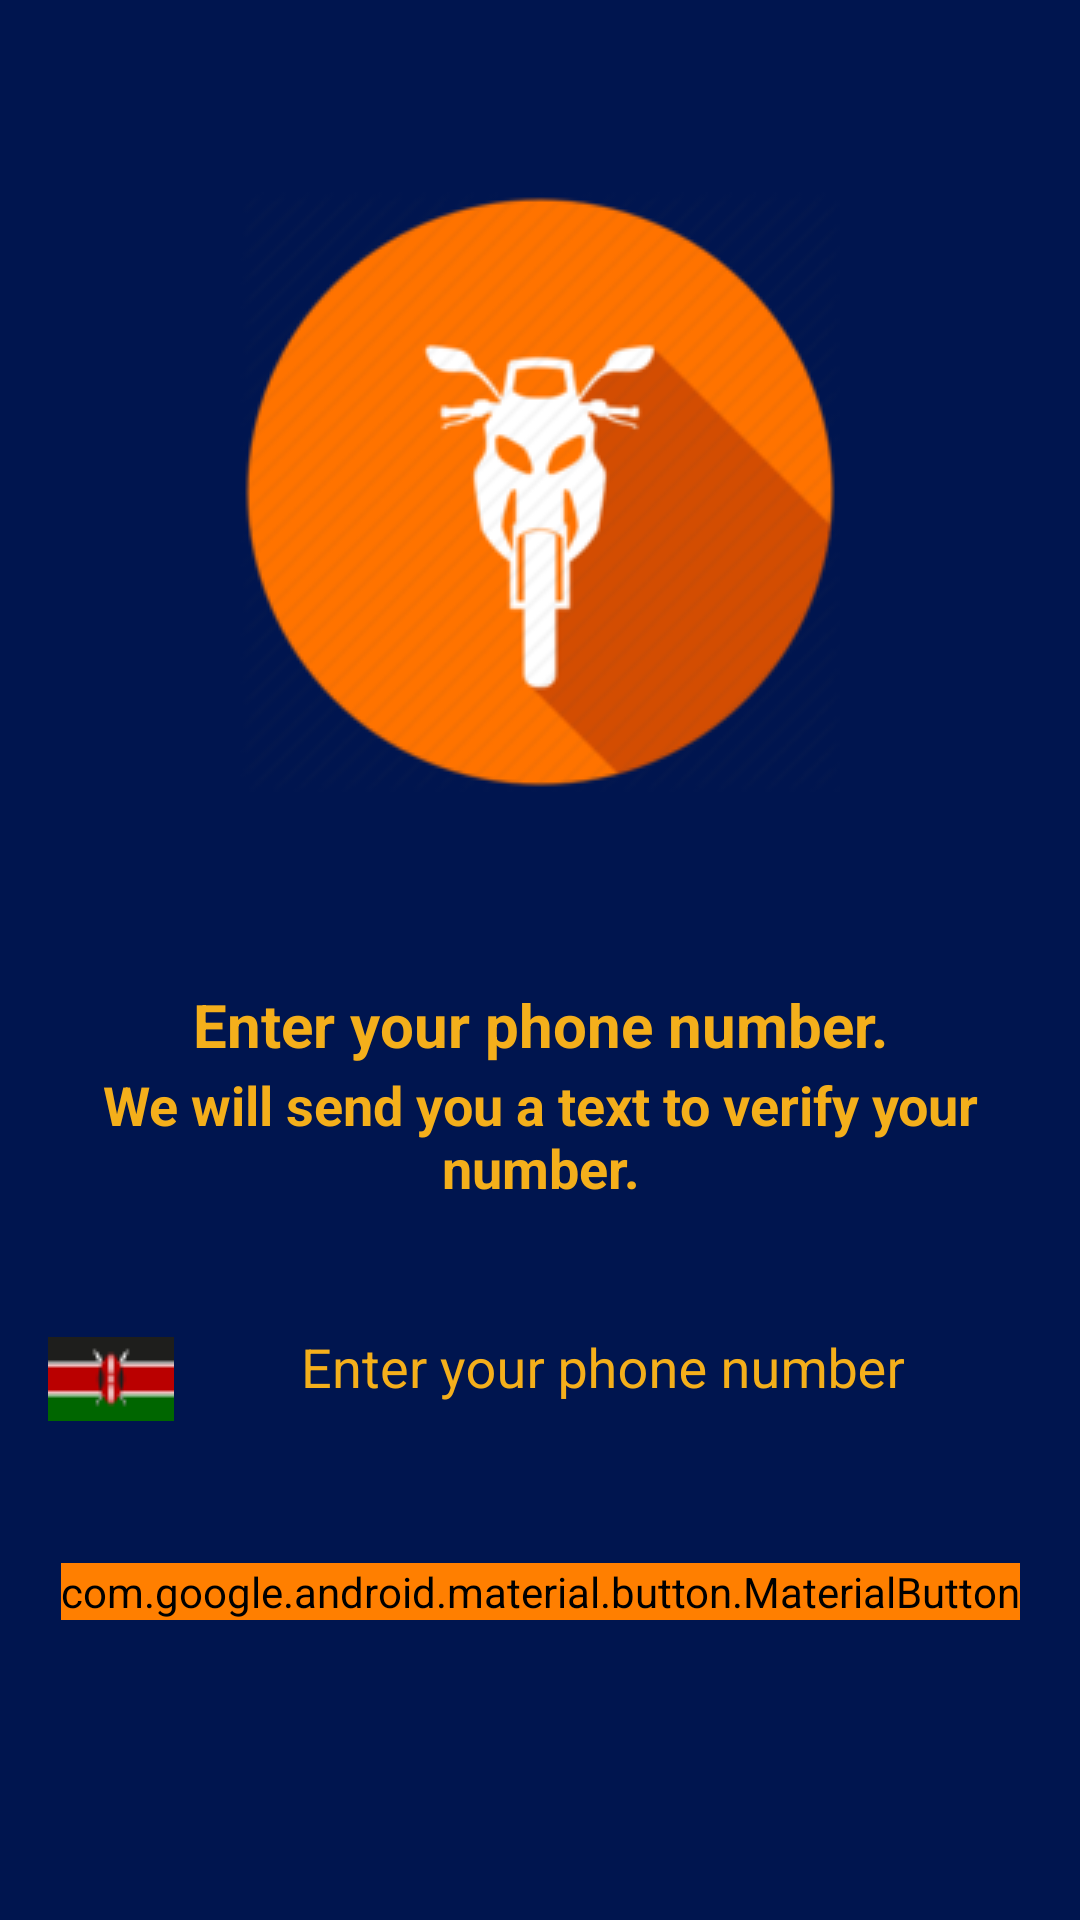

Icon click points for this 1080px×1920px phone screenshot, format point (x, y):
Kenyan flag: point (111, 1379)
